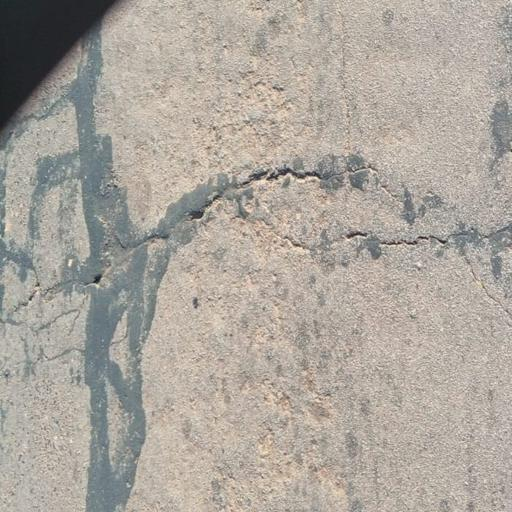GRIETA: (224, 193, 511, 252), (12, 233, 170, 314), (181, 166, 400, 223), (331, 0, 354, 166), (466, 258, 511, 325)
PIEL DE COCODRILO: (177, 1, 324, 163)
